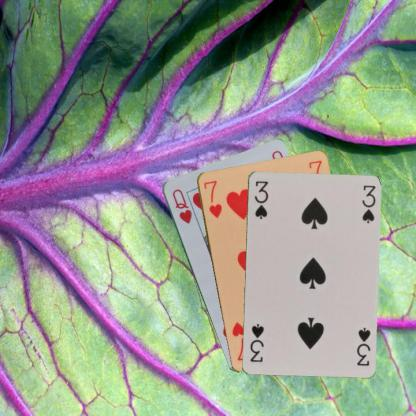3s: (353, 325, 372, 367), (252, 178, 270, 220)
7h: (201, 178, 223, 220)
Qh: (169, 186, 193, 225)
